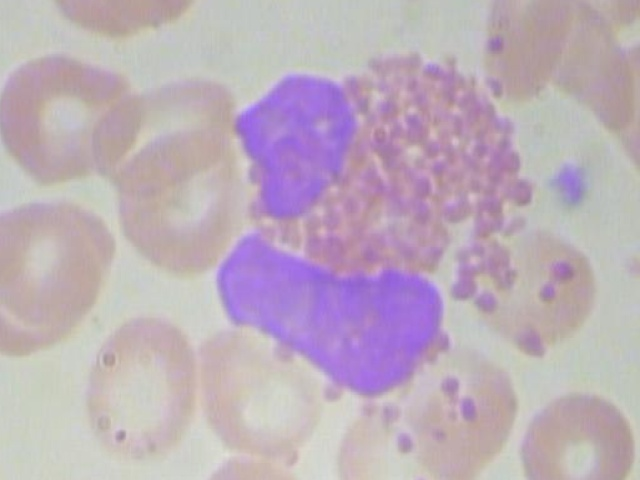Platelets: (537, 153, 606, 216)
RBC: (78, 305, 208, 473), (88, 60, 244, 198), (198, 315, 334, 465), (455, 229, 603, 363), (399, 349, 536, 480), (478, 0, 589, 107), (514, 386, 636, 480), (36, 0, 208, 43), (174, 449, 324, 480), (0, 407, 10, 480)
WBC: (219, 47, 548, 405)
